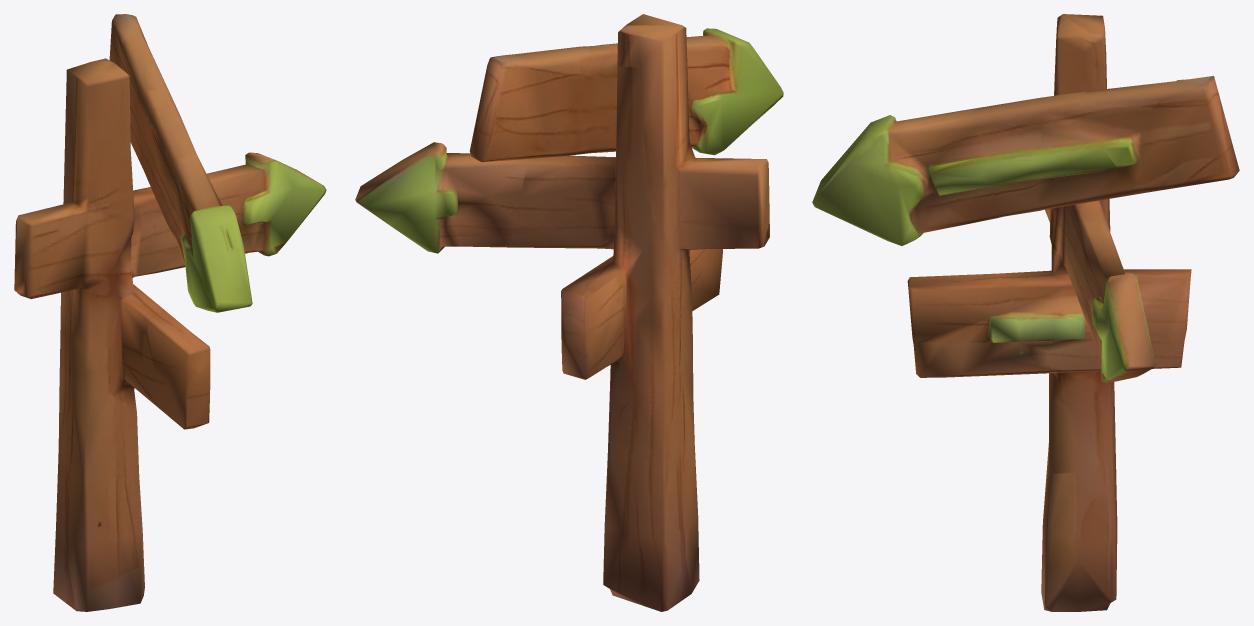
File: signpost.glb
3 renders of one model, left to right at view 1: azimuth 30°, elevation 25°; view 2: azimuth 150°, elevation 25°; view 3: azimuth 270°, elevation 25°, orthographic. The views are drawn at different scales.
Parts seen in each view (by area): view 1: tripo_node_4e137b5d-16d8-448b-84d1-919893f9acbc; view 2: tripo_node_4e137b5d-16d8-448b-84d1-919893f9acbc; view 3: tripo_node_4e137b5d-16d8-448b-84d1-919893f9acbc.
Part boxes in pixels (bbox=[...]): tripo_node_4e137b5d-16d8-448b-84d1-919893f9acbc: bbox=[14, 14, 326, 611]; tripo_node_4e137b5d-16d8-448b-84d1-919893f9acbc: bbox=[355, 14, 783, 611]; tripo_node_4e137b5d-16d8-448b-84d1-919893f9acbc: bbox=[812, 14, 1239, 611].
Size of the model in its own units: 0.6432 by 0.9486 by 0.6393.
Materials: 1 (1 with a texture image).
